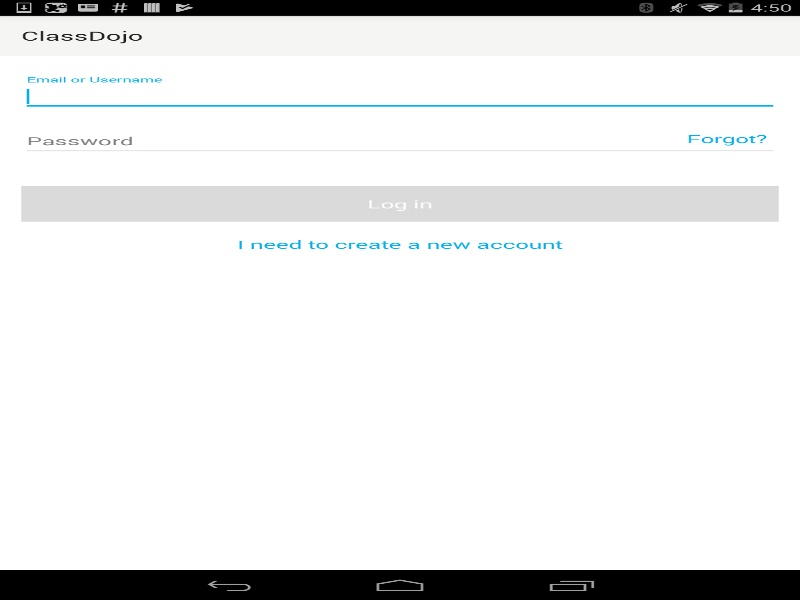Button: (21, 186, 778, 221)
Input: (21, 127, 778, 156), (21, 82, 778, 110)
